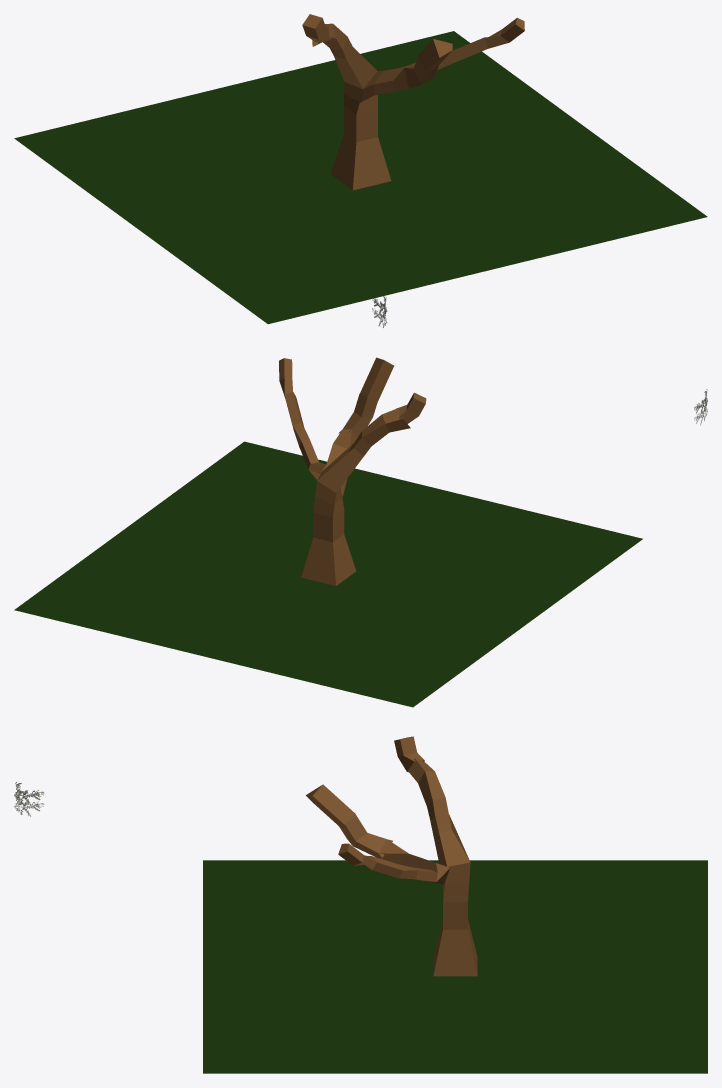
File: Olivo1.0.glb
3 renders of one model, top to bottom at view 1: azimuth 30°, elevation 25°; view 2: azimuth 150°, elevation 25°; view 3: azimuth 270°, elevation 25°, orthographic. The views are drawn at different scales.
Visible parts, largest first — view 1: Plane, Cube.001; view 2: Plane, Cube.001; view 3: Plane, Cube.001.
Boxes of the visible parts, bbox=[...] form: Plane: bbox=[14, 31, 707, 324]; Cube.001: bbox=[302, 14, 524, 190]; Plane: bbox=[14, 441, 642, 707]; Cube.001: bbox=[279, 357, 426, 585]; Plane: bbox=[203, 860, 707, 1073]; Cube.001: bbox=[306, 736, 477, 976].
Bounding box in the file's own units: 18.04 × 8.71 × 24.79.
5 materials, 2 textured.
